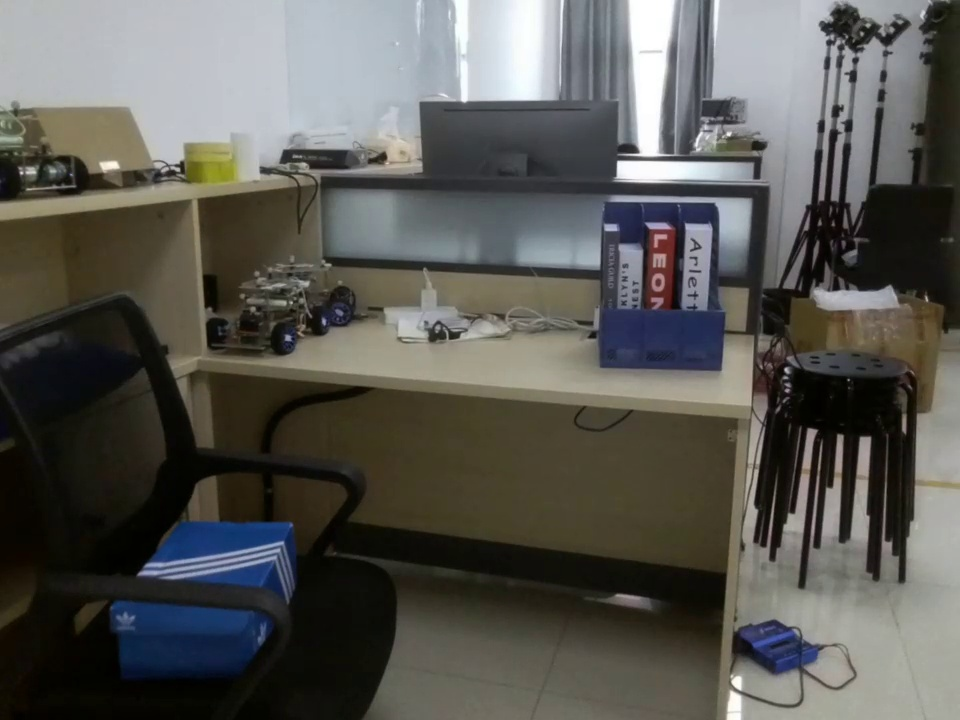files: (596, 197, 731, 377)
